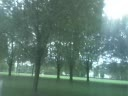window: (66, 51, 74, 71), (86, 49, 94, 69), (123, 45, 128, 66), (80, 87, 89, 96), (60, 84, 66, 96)
